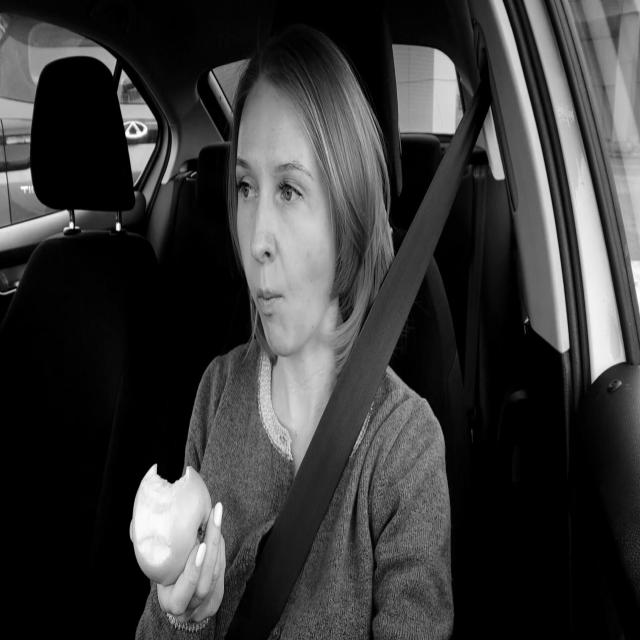Eating: (128, 452, 218, 590)
Seatbelt: (226, 77, 493, 640)
